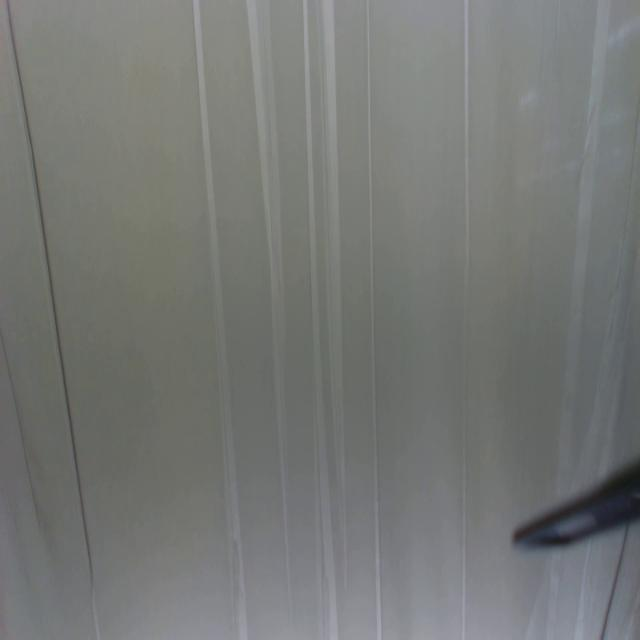crease: (6, 0, 102, 635), (192, 0, 247, 640), (247, 0, 296, 609), (302, 0, 348, 640), (555, 0, 611, 482), (365, 0, 383, 640), (0, 328, 41, 532), (459, 0, 470, 639), (601, 524, 632, 637)
